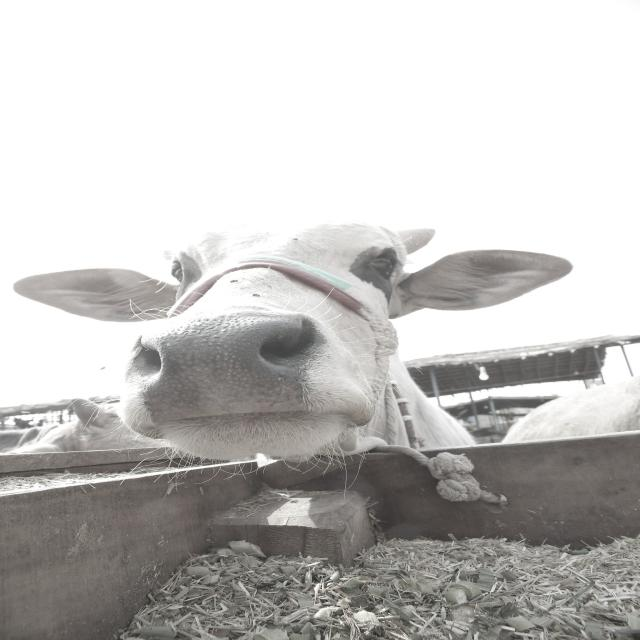muzzles: (111, 310, 335, 435)
